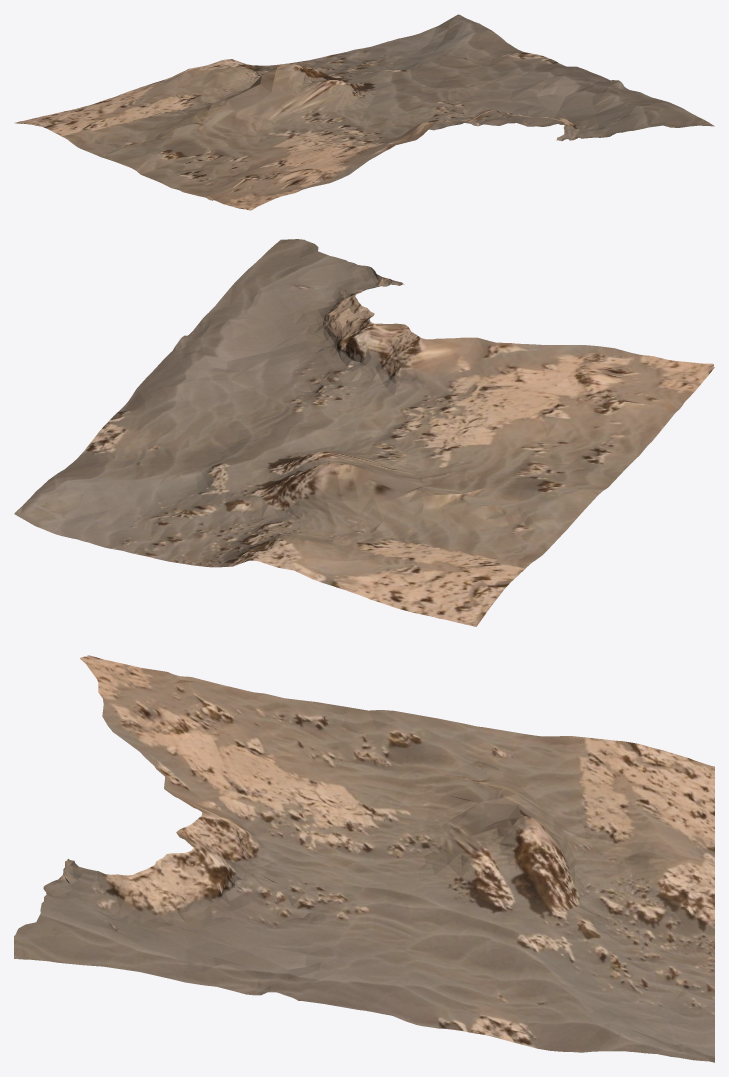
The picture shows the model from 3 angles, top to bottom: view 1: azimuth 30°, elevation 25°; view 2: azimuth 150°, elevation 25°; view 3: azimuth 270°, elevation 25°; orthographic projection. The views are drawn at different scales.
Bounding box in the file's own units: 2.09 × 0.4152 × 2.09.
2 materials, 2 textured.
